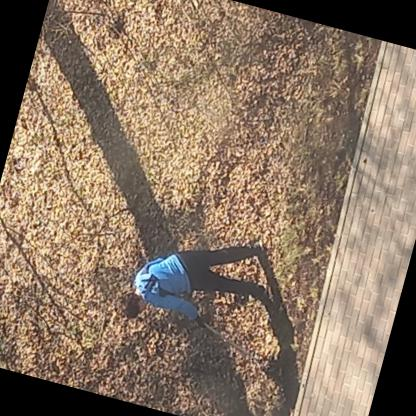Human Body: (109, 206, 287, 361)
